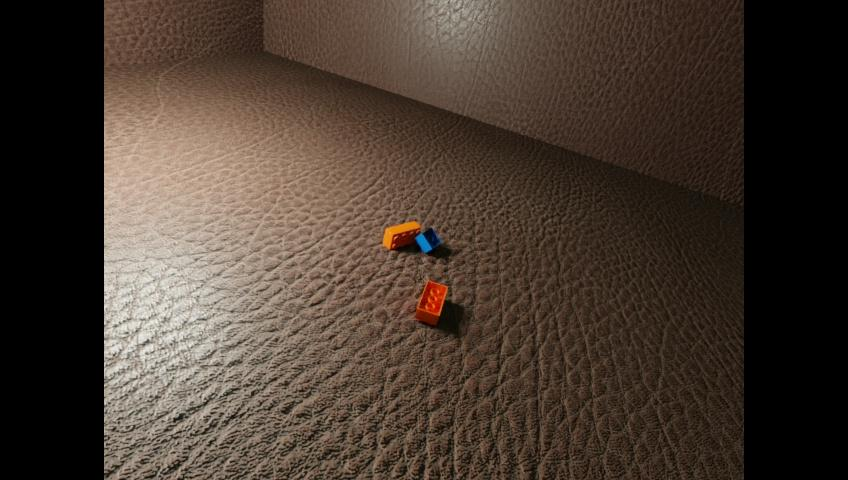2x2_blue: (416, 228, 441, 253)
4x2_orange: (414, 280, 446, 325), (383, 221, 420, 249)
